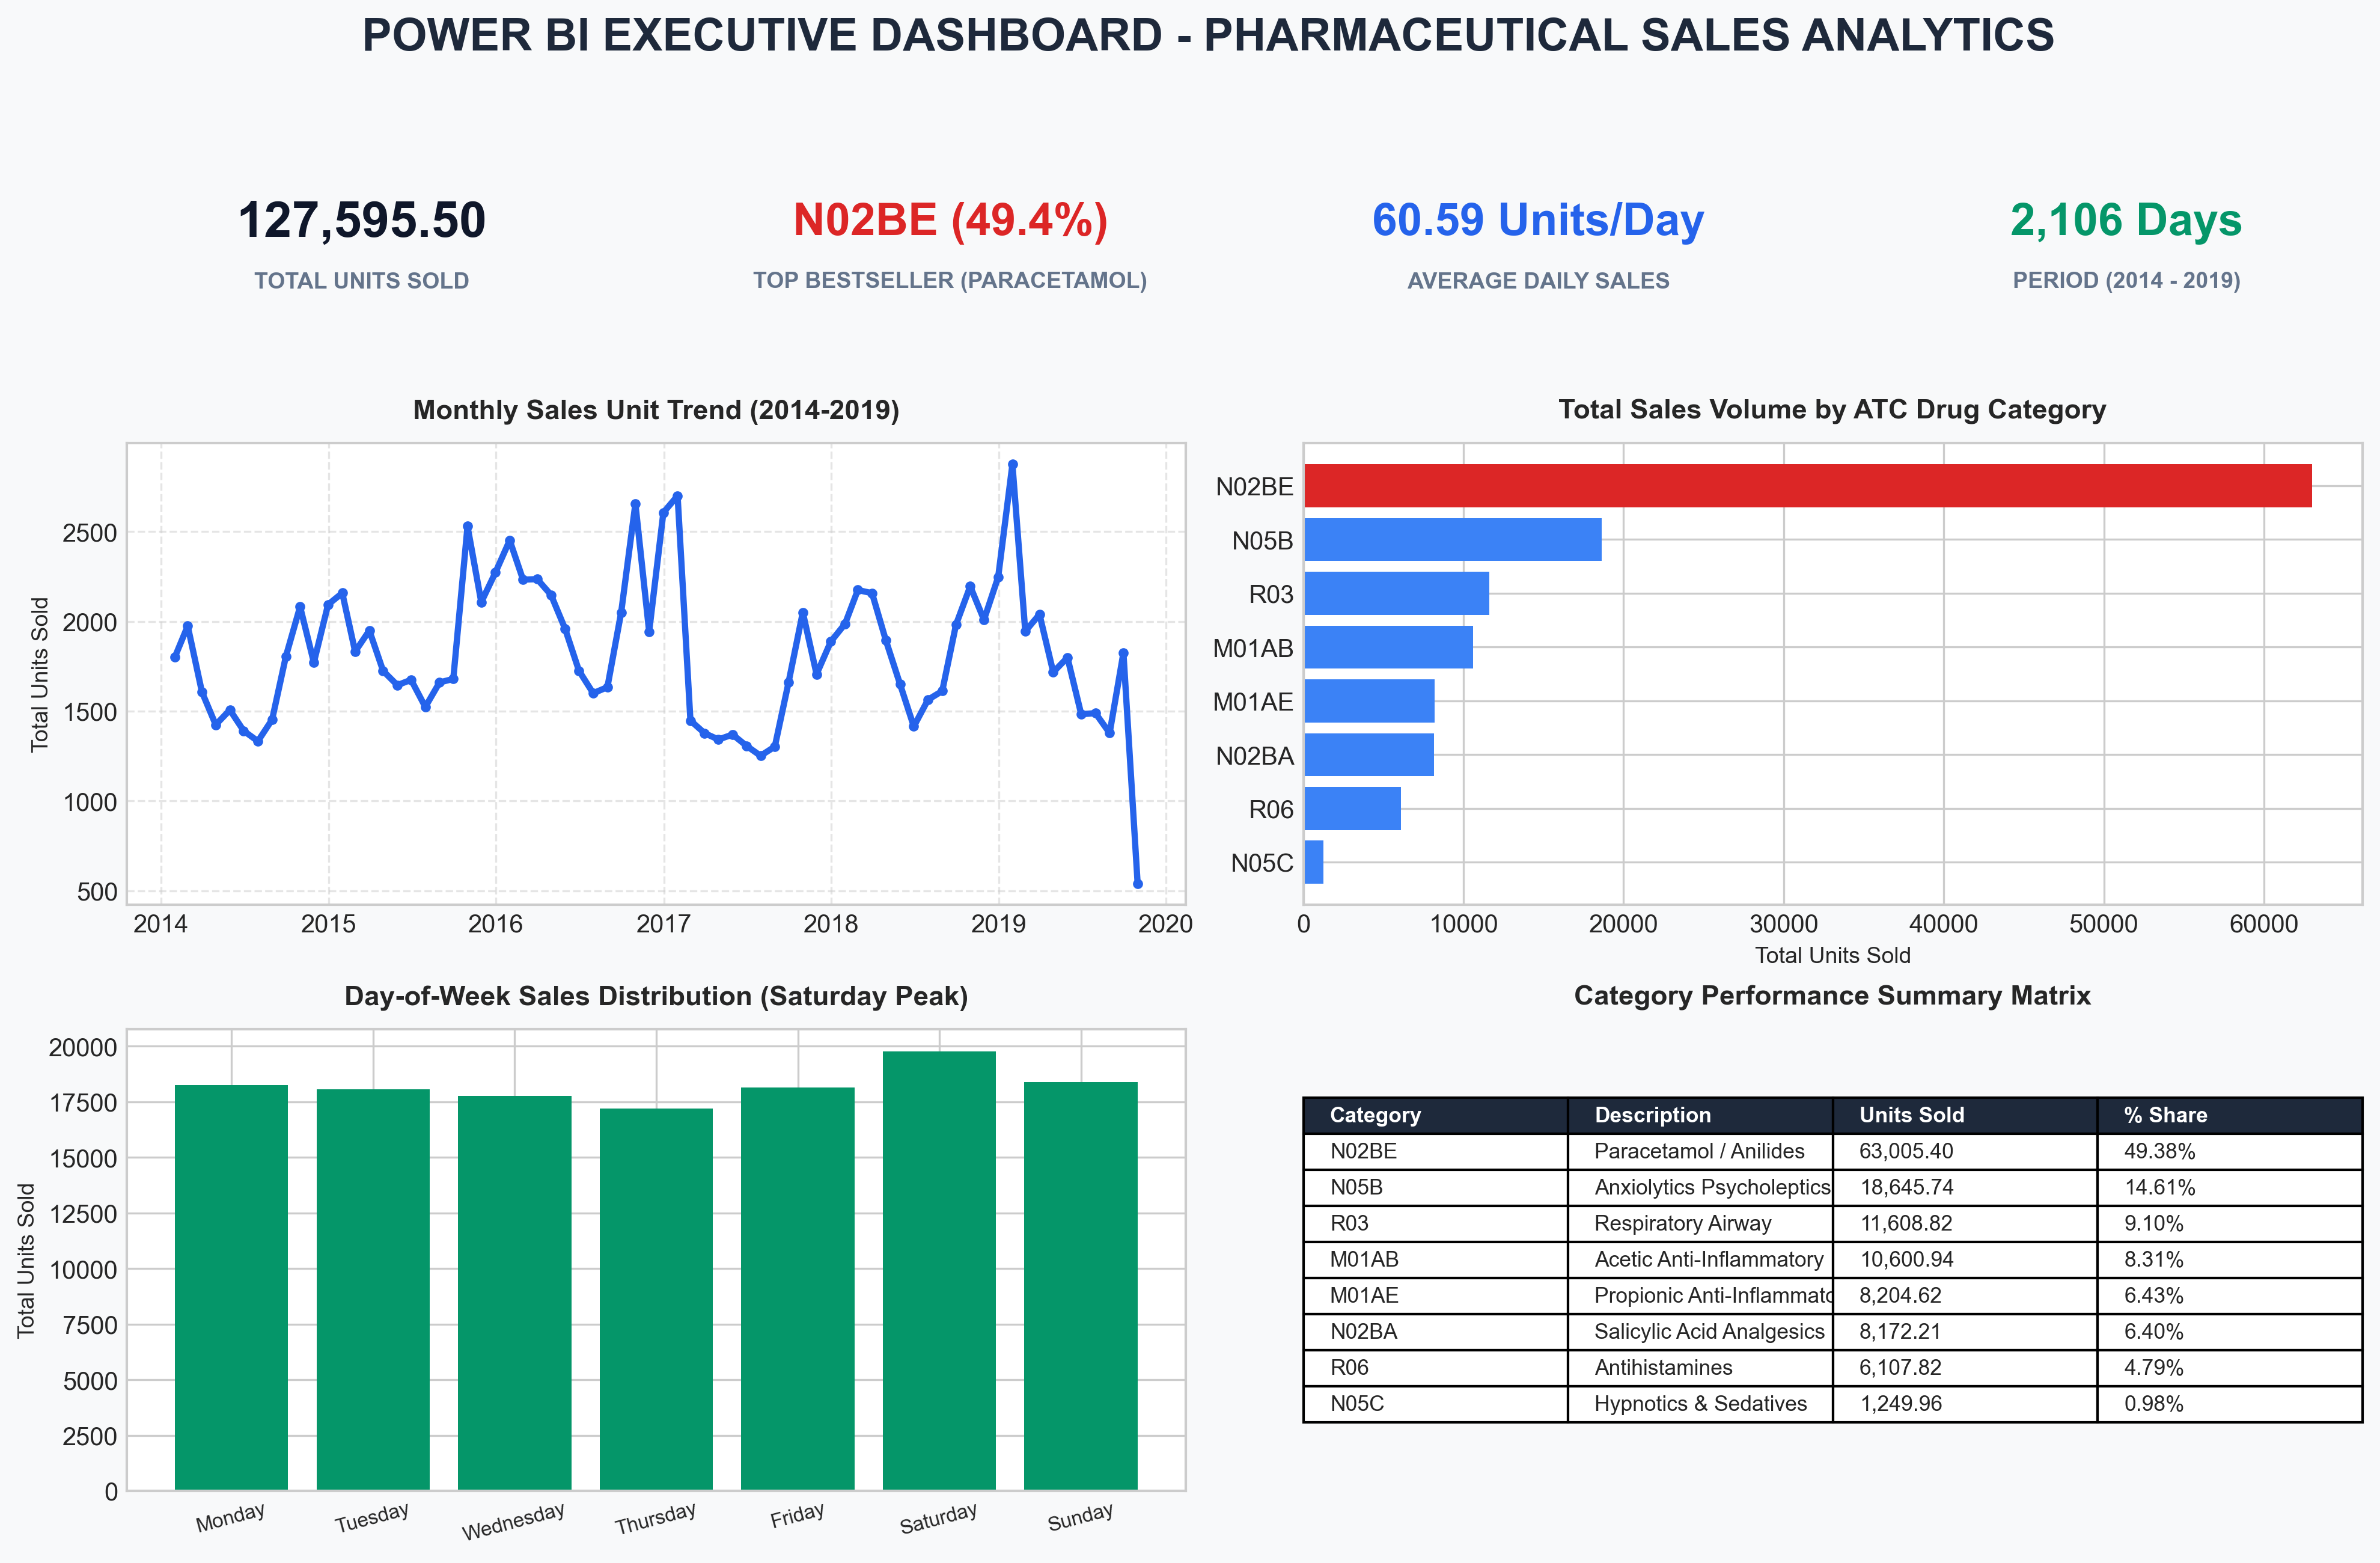

Layout of this report page (visuals, bound fields, positions):
{"tool":"powerbi","page":{"name":"Executive Dashboard","canvas":[1280,720],"ordinal":0},"visuals":[{"type":"card","fields":{"Values":["Fact_PharmaSales.Total Units Sold"]},"box":[20,20,280,100],"z":1},{"type":"card","fields":{"Values":["Dim_Category.Category_Code"]},"box":[320,20,280,100],"z":2},{"type":"card","fields":{"Values":["Fact_PharmaSales.Average Daily Sales"]},"box":[620,20,280,100],"z":3},{"type":"card","fields":{"Values":["Fact_PharmaSales.Total Days Analyzed"]},"box":[920,20,280,100],"z":4},{"type":"lineChart","fields":{"Category":["Dim_Date.Date"],"Y":["Fact_PharmaSales.Total Units Sold"]},"box":[20,140,600,260],"z":5},{"type":"columnChart","fields":{"Category":["Dim_Category.Category_Code"],"Y":["Fact_PharmaSales.Total Units Sold"]},"box":[640,140,560,260],"z":6},{"type":"barChart","fields":{"Category":["Dim_Date.Weekday_Name"],"Y":["Fact_PharmaSales.Total Units Sold"]},"box":[20,420,600,260],"z":7},{"type":"matrix","fields":{"Rows":["Dim_Category.Category_Code"],"Columns":["Dim_Date.Year"],"Values":["Fact_PharmaSales.Total Units Sold"]},"box":[640,420,560,260],"z":8}]}

Visuals, with their boxes on the page's 1280x720 design canvas (x1, y1, x2, y2). These are canvas units, not pixel positions in the 2380x1563 screenshot, which may show the page scaled, cropped or inside an application window:
card - Fact_PharmaSales.Total Units Sold: bbox(20, 20, 300, 120)
card - Dim_Category.Category_Code: bbox(320, 20, 600, 120)
card - Fact_PharmaSales.Average Daily Sales: bbox(620, 20, 900, 120)
card - Fact_PharmaSales.Total Days Analyzed: bbox(920, 20, 1200, 120)
lineChart - Dim_Date.Date x Fact_PharmaSales.Total Units Sold: bbox(20, 140, 620, 400)
columnChart - Dim_Category.Category_Code x Fact_PharmaSales.Total Units Sold: bbox(640, 140, 1200, 400)
barChart - Dim_Date.Weekday_Name x Fact_PharmaSales.Total Units Sold: bbox(20, 420, 620, 680)
matrix - Dim_Category.Category_Code x Dim_Date.Year: bbox(640, 420, 1200, 680)
